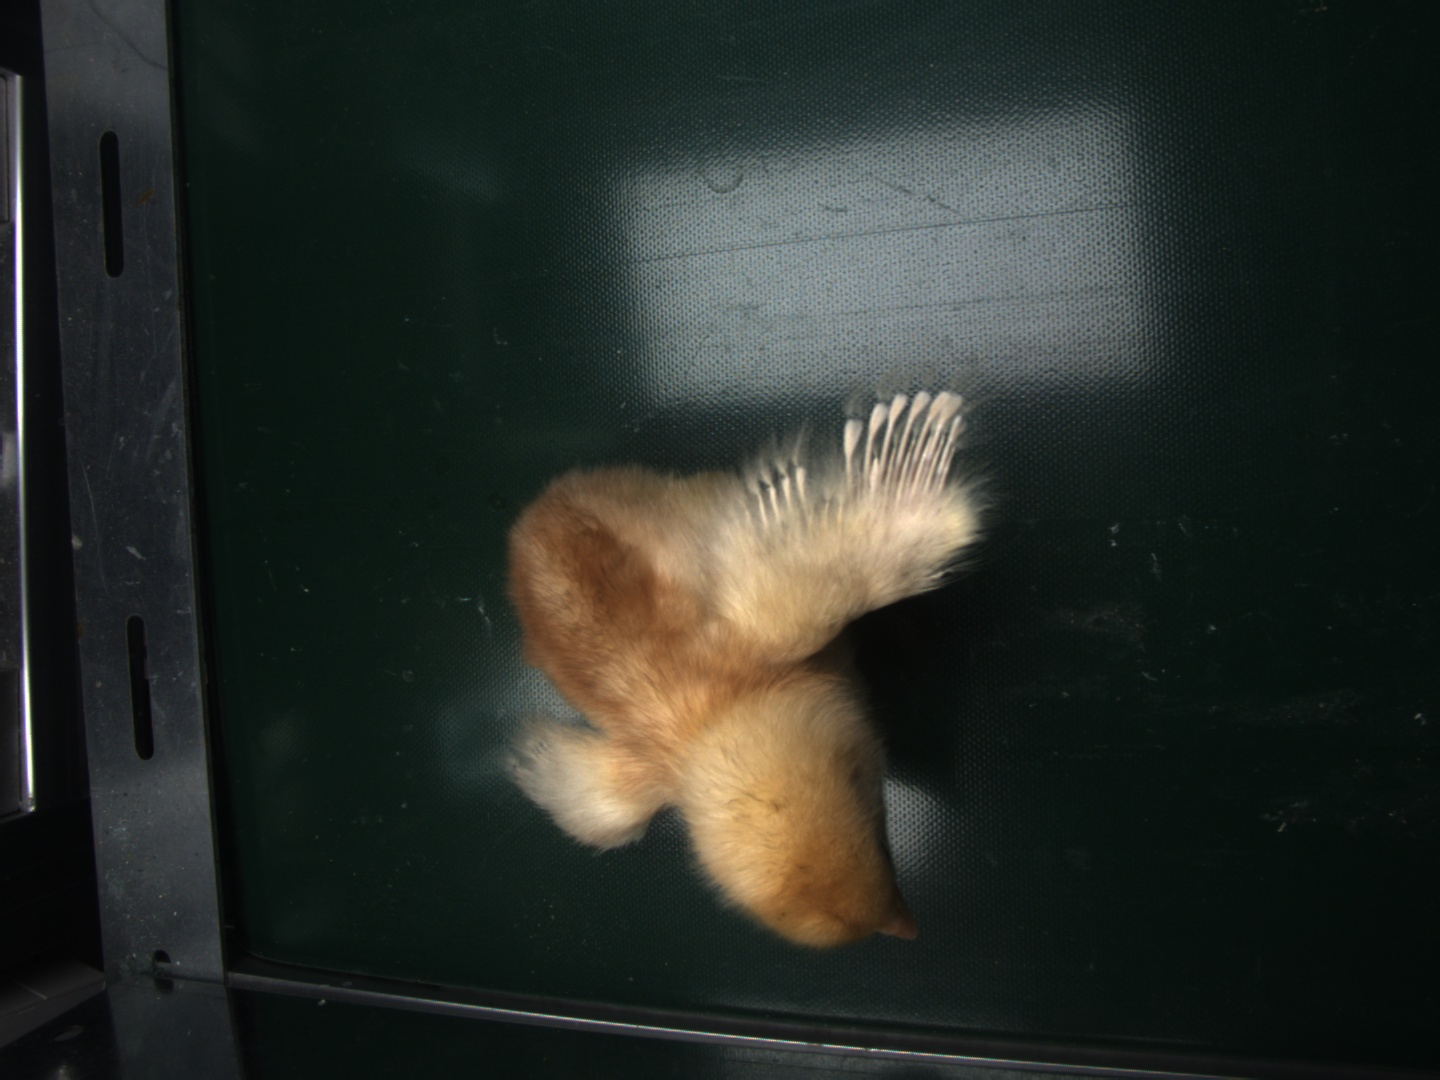female: (855, 391, 969, 487)
